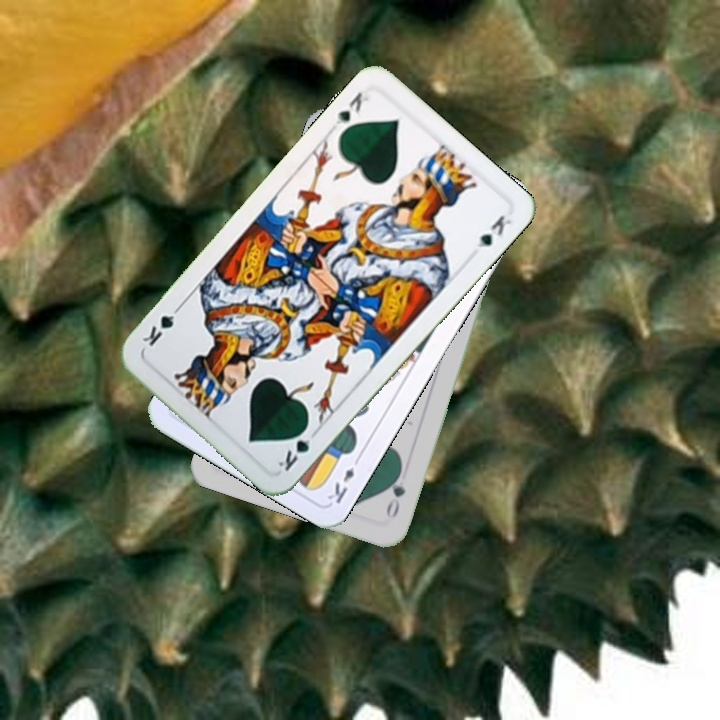EK: (323, 451, 364, 506)
GK: (273, 421, 320, 474), (331, 87, 372, 139)
GO: (382, 464, 408, 521)
